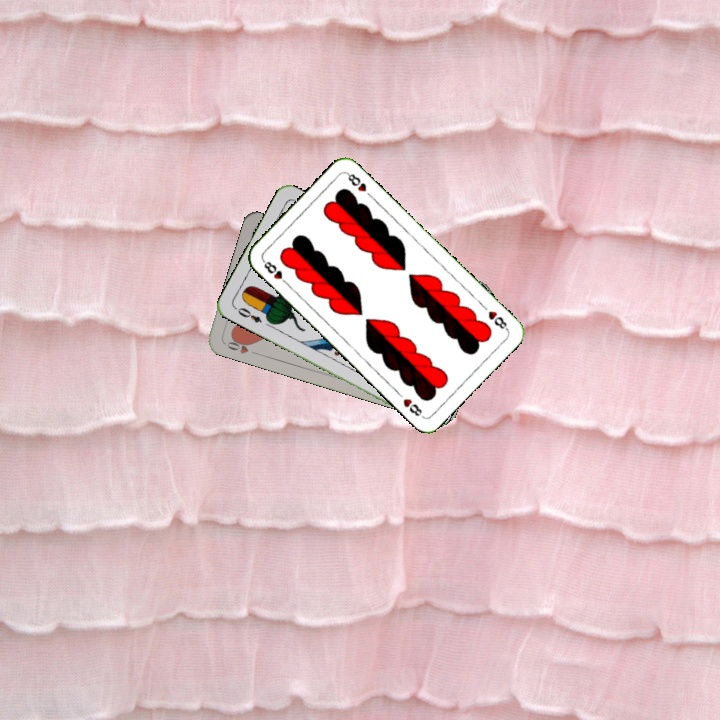EO: (231, 303, 264, 325)
H8: (258, 256, 291, 288), (484, 307, 511, 333)
HO: (223, 334, 255, 356)
